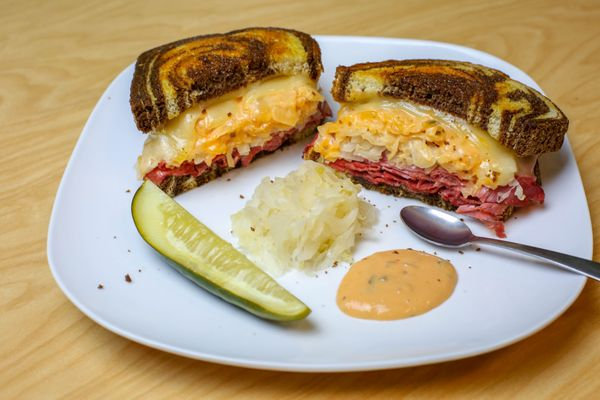burger: (400, 204, 600, 284)
salad: (401, 204, 600, 283)
soup: (302, 58, 564, 229), (128, 26, 329, 198)
